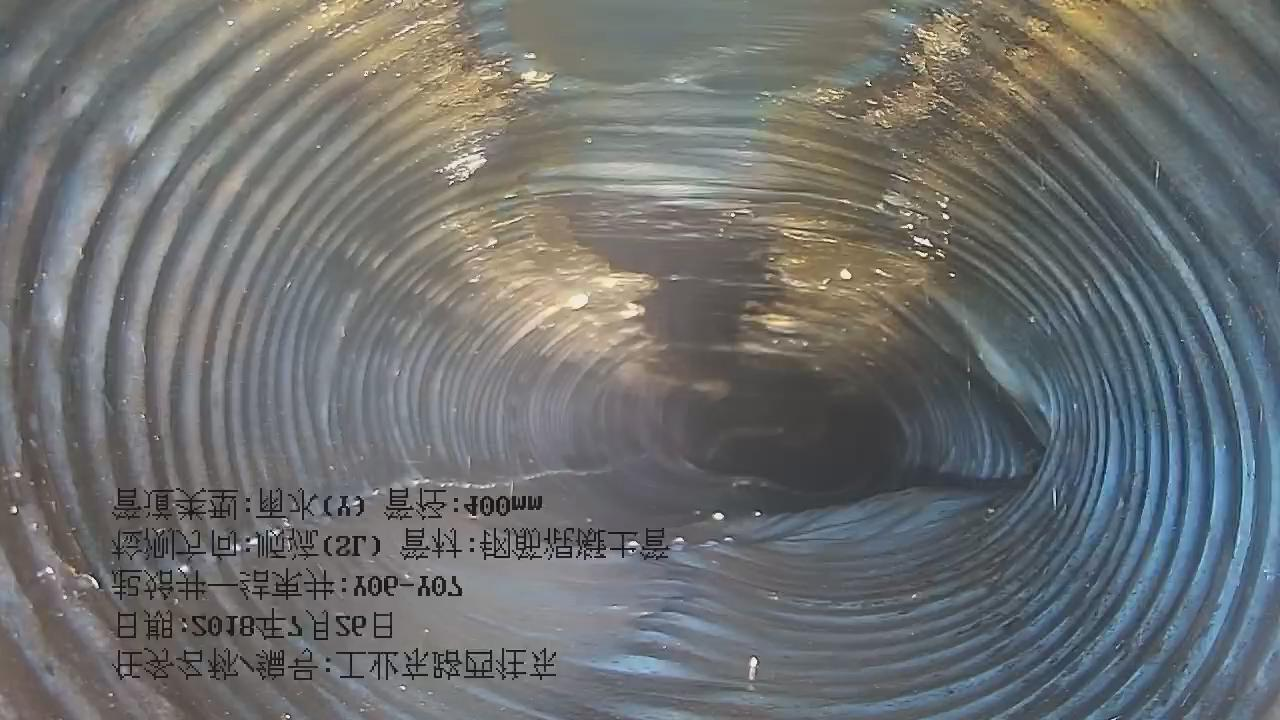BX: (363, 274, 1125, 594)
JG: (659, 8, 1018, 377), (441, 185, 682, 384), (403, 1, 551, 186)
